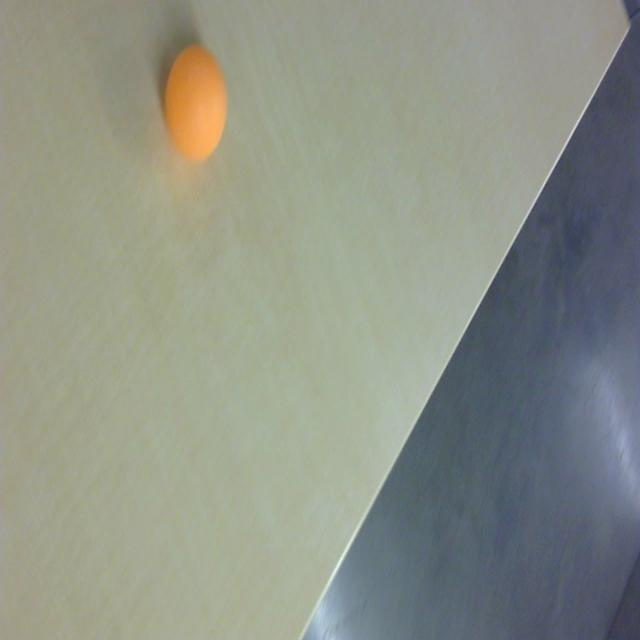ball: (161, 41, 230, 168)
